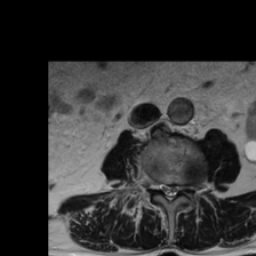CCS_stenosis: (167, 179, 172, 205)
LFS_stenosis: (179, 180, 187, 195)
LLS_stenosis: (172, 180, 179, 198)
RFS_normal: (153, 175, 160, 196)
RLS_stenosis: (160, 179, 167, 198)
